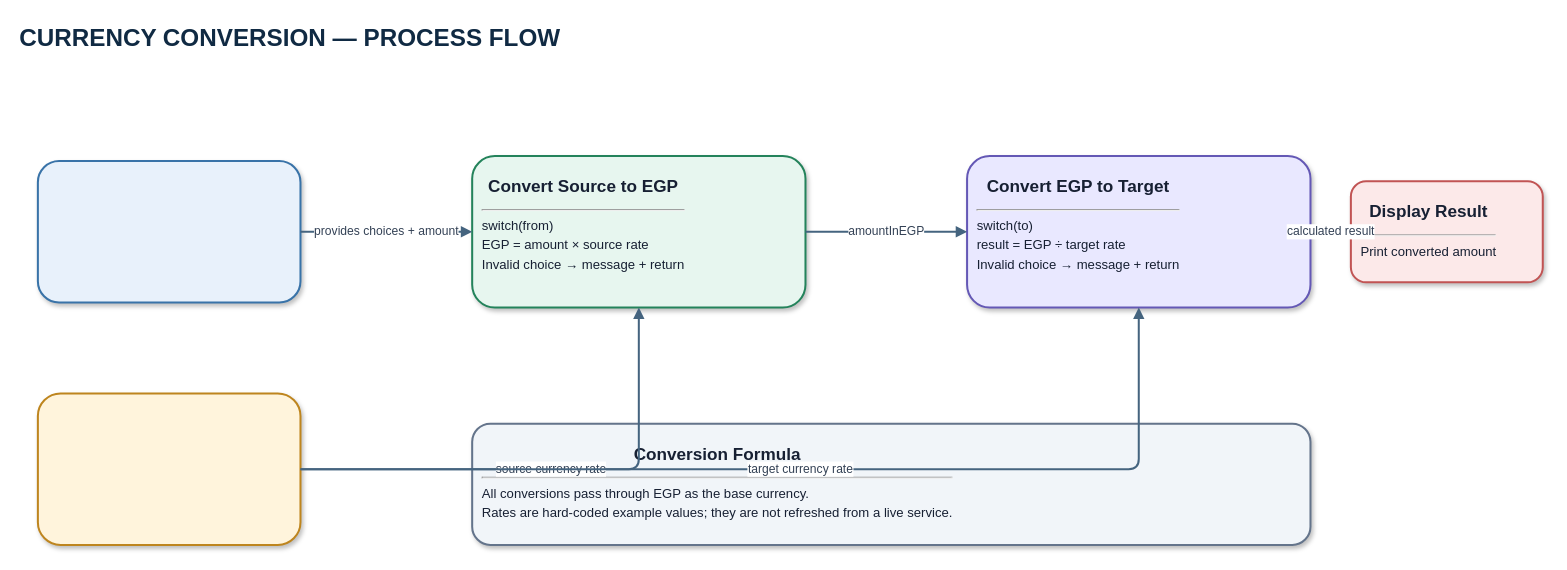
Image size: 1567x570. Some labels were removed from this diagram. Each missing label, with the centre of its shape:
Fixed Rates USD = 48.5 EGP EUR = 52.0 EGP GBP = 60.0 EGP: point 169,470
User Input From currency: 1–4 To currency: 1–4 Amount: double: point 169,233
